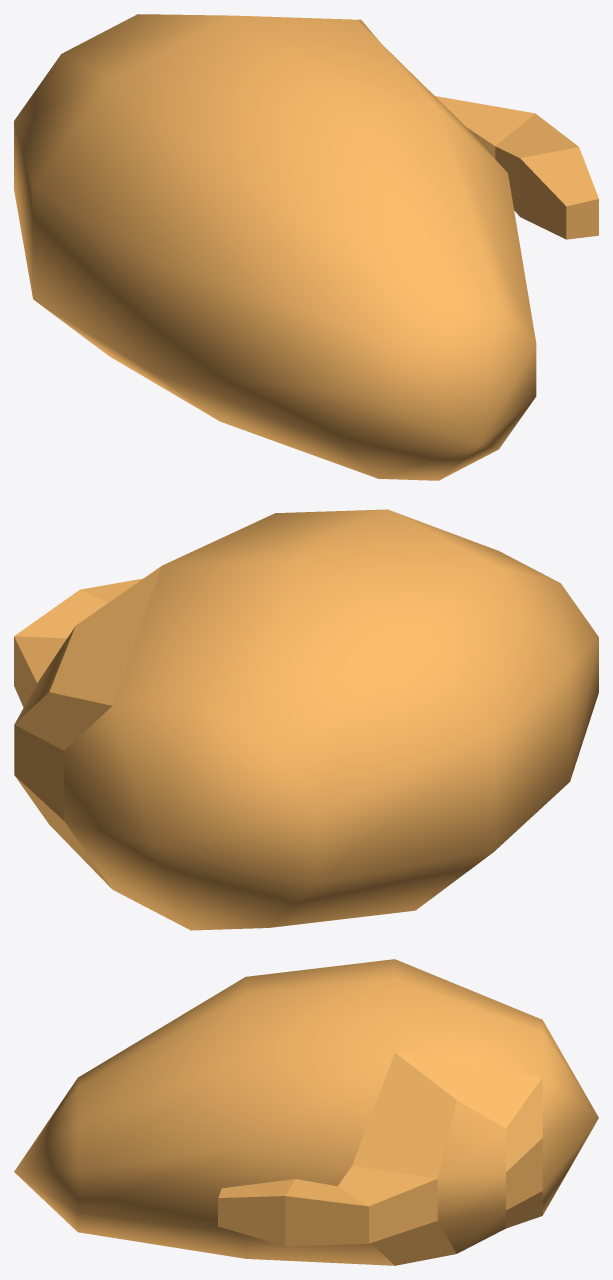
Rendered from chicken01.FBX.
3 renders of one model, top to bottom at view 1: azimuth 30°, elevation 25°; view 2: azimuth 150°, elevation 25°; view 3: azimuth 270°, elevation 25°, orthographic. The views are drawn at different scales.
Visible parts, largest first — view 1: chicken; view 2: chicken; view 3: chicken.
Part boxes in pixels (x1=…): chicken: x1=14, y1=14, x2=598, y2=480; chicken: x1=14, y1=509, x2=598, y2=930; chicken: x1=14, y1=959, x2=598, y2=1265.
Size of the model in its own units: 17.32 by 11.29 by 23.41.
